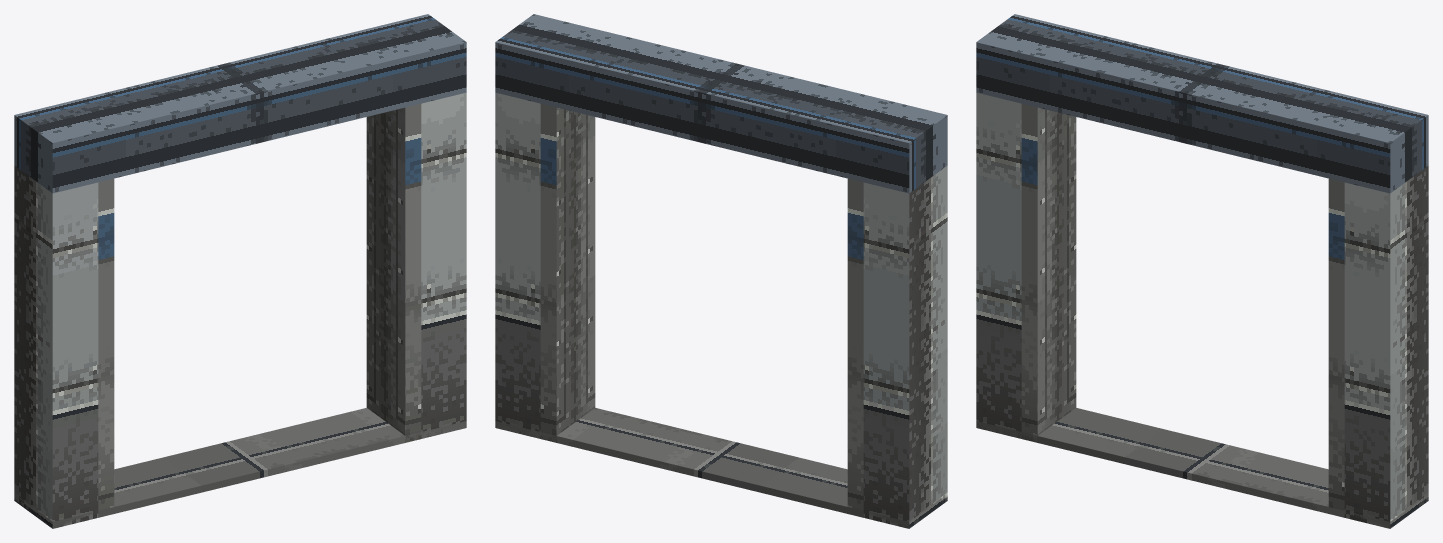
Rendered from cf_alcove_frame.glb.
3 views of the same model, side by side, from view 1: azimuth 30°, elevation 25°; view 2: azimuth 150°, elevation 25°; view 3: azimuth 330°, elevation 25° (orthographic).
Parts seen in each view (by area): view 1: alcove_lintel, alcove_jamb_-1, alcove_reveal_1, alcove_jamb_1, alcove_sill, alcove_reveal_-1; view 2: alcove_lintel, alcove_jamb_-1, alcove_reveal_1, alcove_jamb_1, alcove_sill, alcove_reveal_-1; view 3: alcove_lintel, alcove_jamb_1, alcove_reveal_-1, alcove_jamb_-1, alcove_sill, alcove_reveal_1.
Part boxes in pixels (box(x1,y1,x2,y2)): alcove_lintel: box(14, 14, 466, 193); alcove_jamb_-1: box(14, 165, 98, 528); alcove_reveal_1: box(366, 103, 421, 442); alcove_jamb_1: box(421, 92, 466, 438); alcove_sill: box(14, 407, 466, 528); alcove_reveal_-1: box(98, 178, 114, 510); alcove_lintel: box(495, 14, 947, 193); alcove_jamb_-1: box(863, 165, 947, 528); alcove_reveal_1: box(540, 103, 595, 442); alcove_jamb_1: box(495, 92, 540, 438); alcove_sill: box(495, 407, 947, 528); alcove_reveal_-1: box(847, 178, 863, 510); alcove_lintel: box(976, 14, 1428, 193); alcove_jamb_1: box(1344, 165, 1428, 528); alcove_reveal_-1: box(1021, 103, 1076, 442); alcove_jamb_-1: box(976, 92, 1021, 438); alcove_sill: box(976, 407, 1428, 528); alcove_reveal_1: box(1328, 178, 1344, 510).
Size of the model in its own units: 3.1 by 2.76 by 0.5.
Materials: 4 (4 with a texture image).
